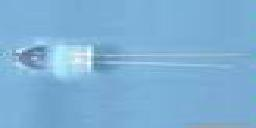LED: (9, 41, 256, 78)
